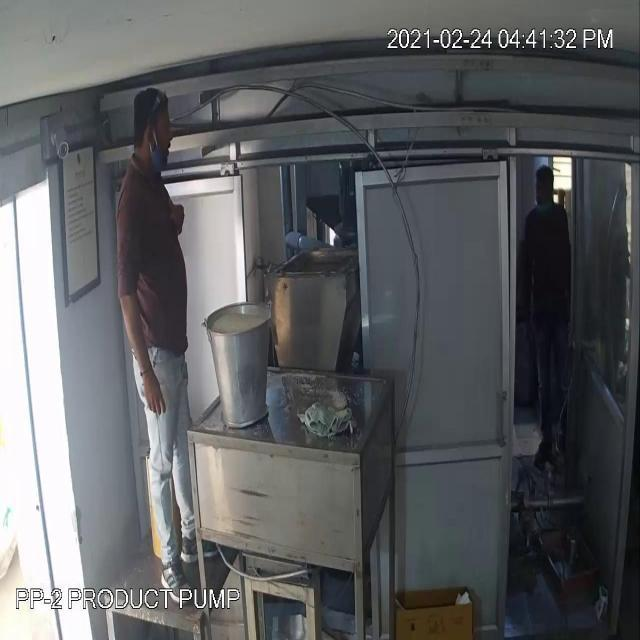no hat: (132, 81, 174, 140)
